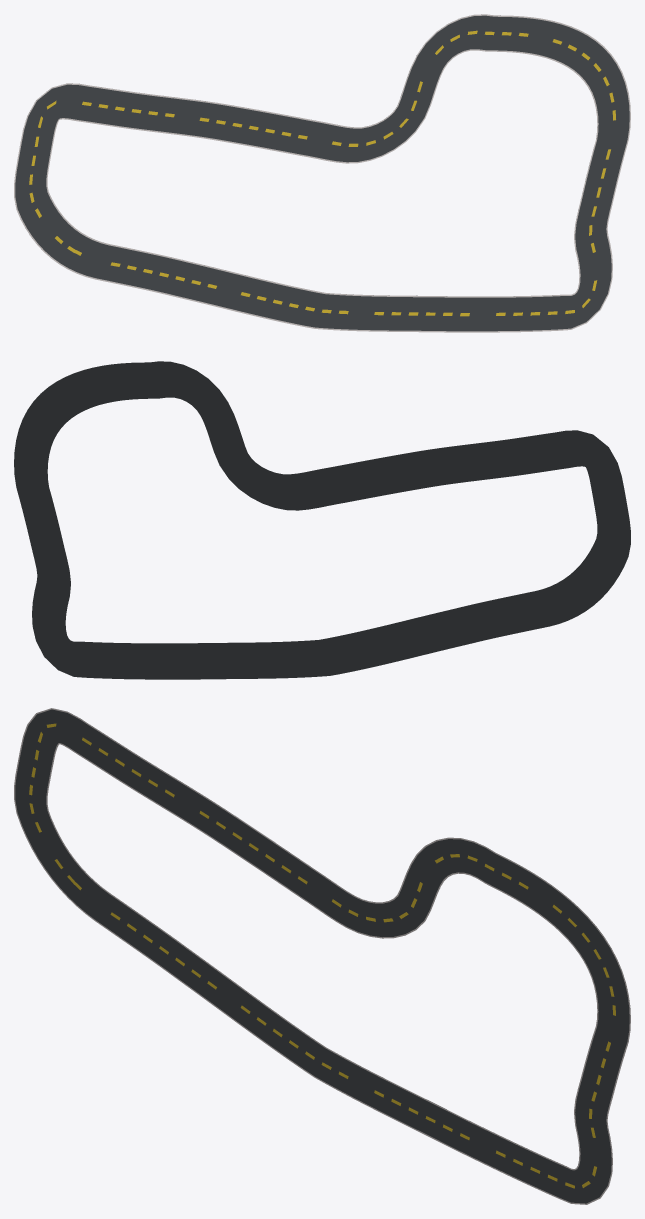
File: track.obj
3 views of the same model, one above another, from view 1: azimuth 30°, elevation 25°; view 2: azimuth 150°, elevation 25°; view 3: azimuth 330°, elevation 25° (orthographic).
Bounding box in the file's own units: 19.52 × 11.17 × 0.002.
